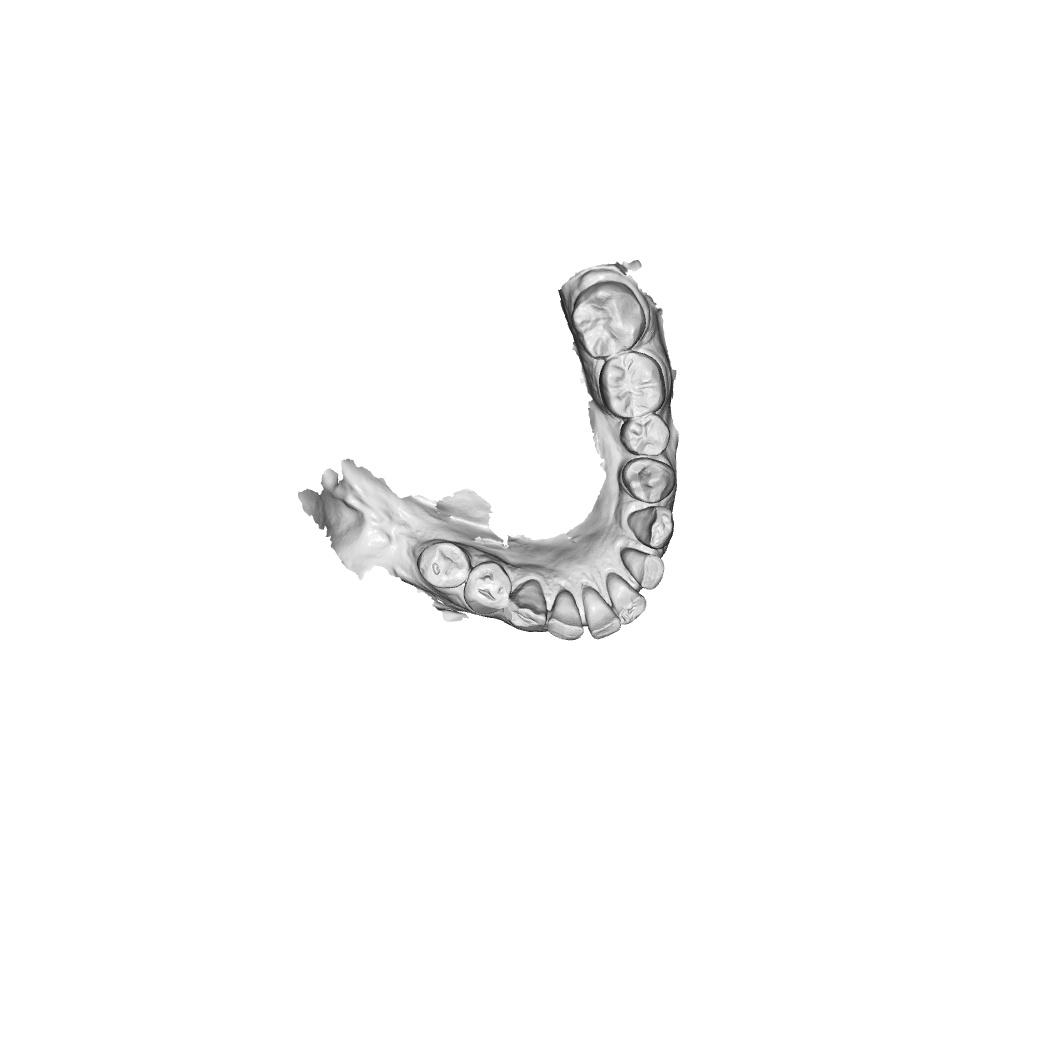canine: (502, 579, 548, 633), (627, 505, 675, 550)
incisor: (581, 584, 622, 640), (605, 572, 648, 625), (546, 589, 584, 642), (620, 547, 665, 591)
molar: (571, 280, 647, 360), (598, 350, 667, 420)
premolar: (462, 560, 513, 616), (417, 541, 473, 589), (621, 457, 677, 502), (618, 413, 671, 457)
